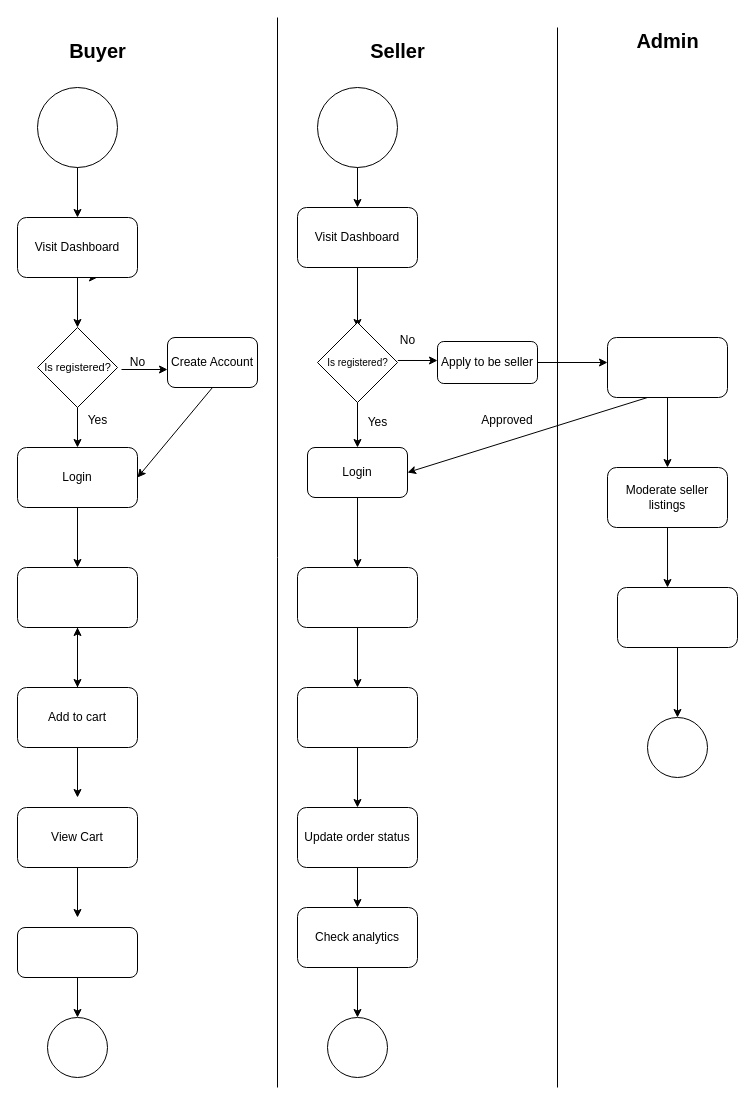
The diagram is 755 pixels wide and 1106 high, and some of its shapes have lost their labels. Each missing label, with the centre of its shape:
Approve/Reject seller applications: (667,367)
Browse products: (77,597)
Manage inventory: (357,597)
Monitor users and buyers: (677,617)
Proceed to checkout: (77,952)
Process Orders: (357,717)
